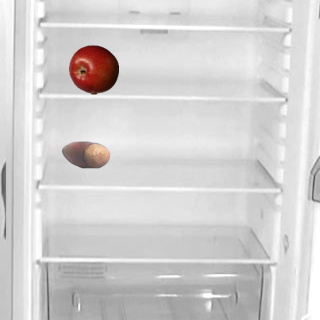Apple Braeburn: (68, 44, 118, 94)
Hazelnut: (60, 129, 110, 179)
